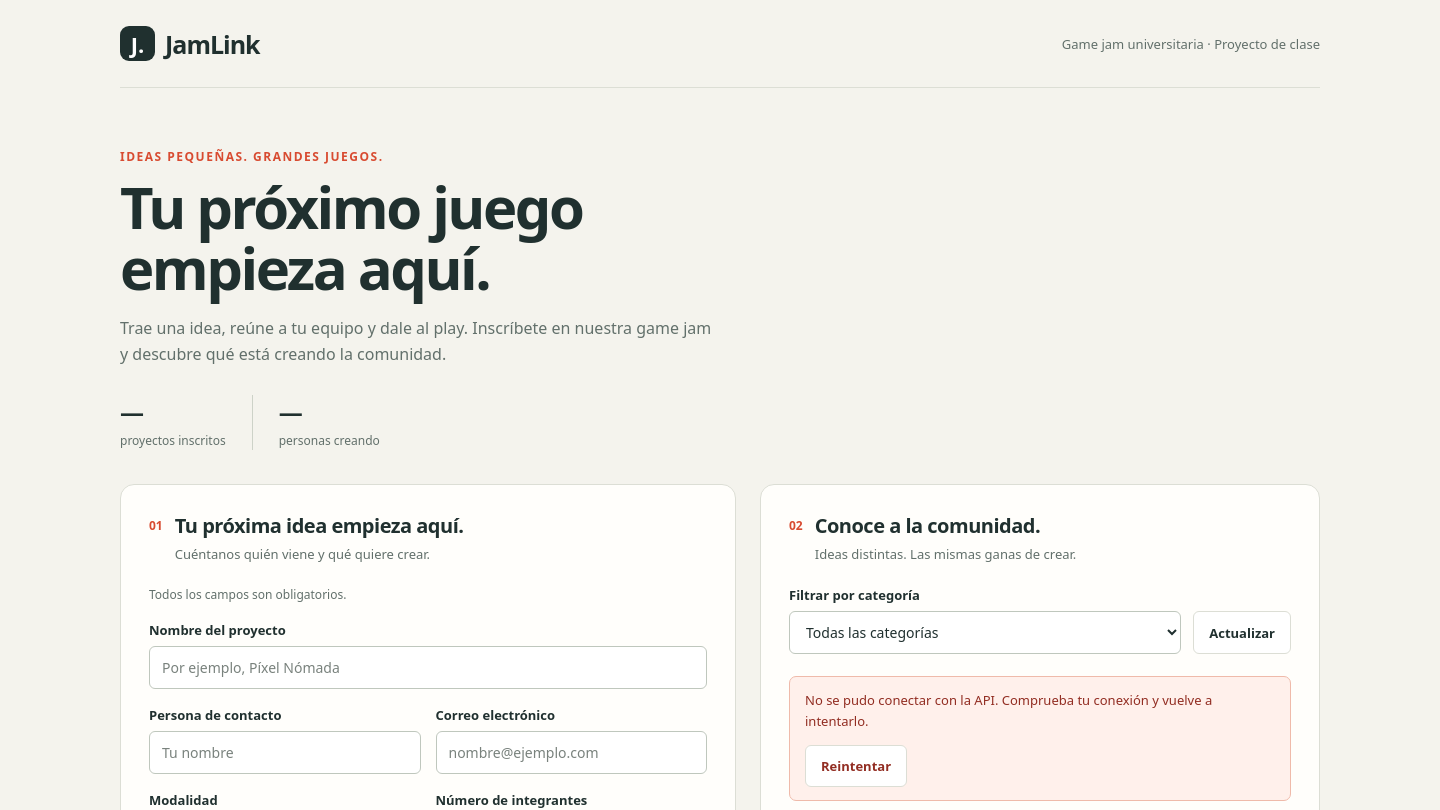
Test: JamLink: formulario y listado conectados › permite reintentar una consulta fallida
Expected: the message shows "No se pudo conectar", [805,691,1212,730]
Click the button "Reintentar": {"x": 856, "y": 766} [805,745,907,788]
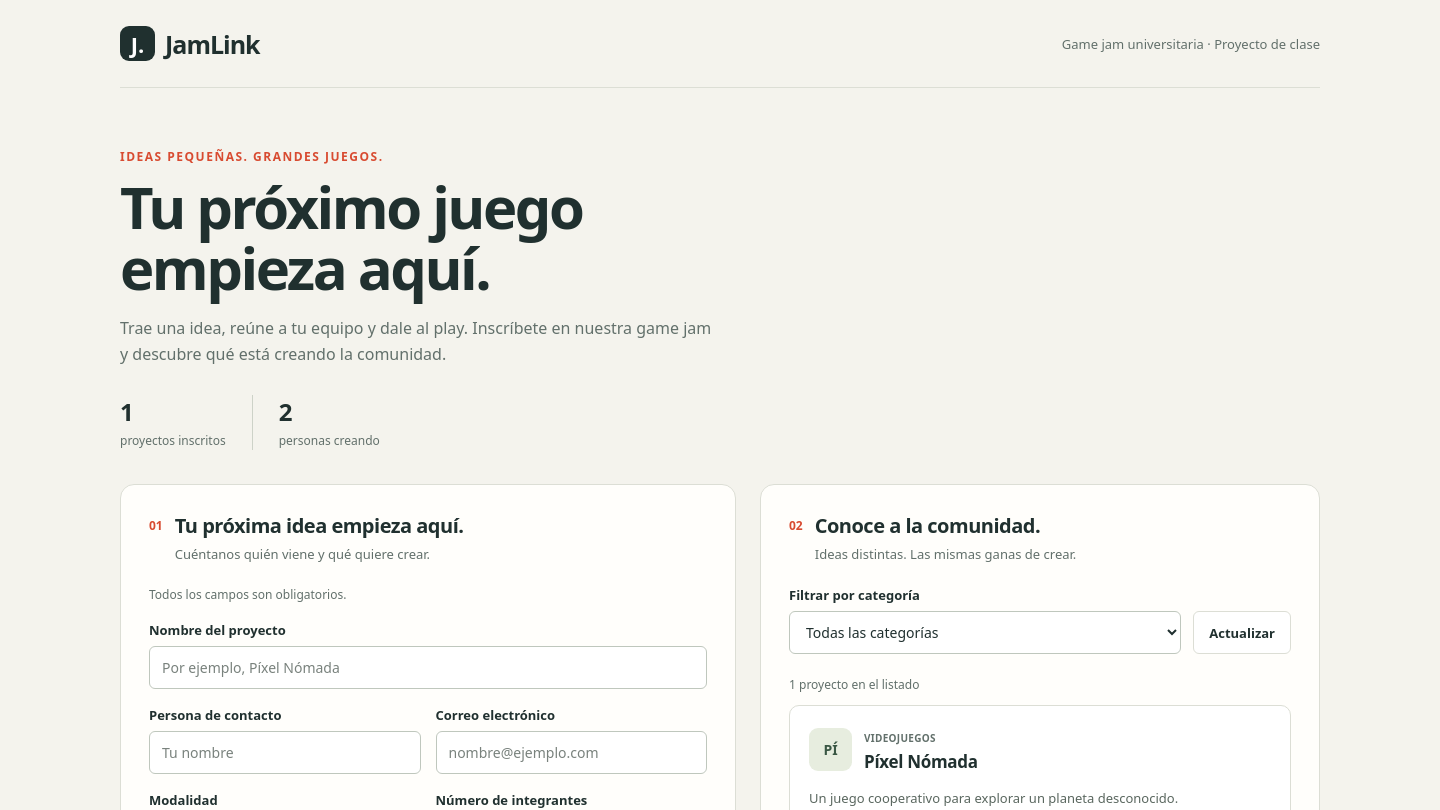
Result: the heading "Píxel Nómada" is shown at [864,750,978,773]
